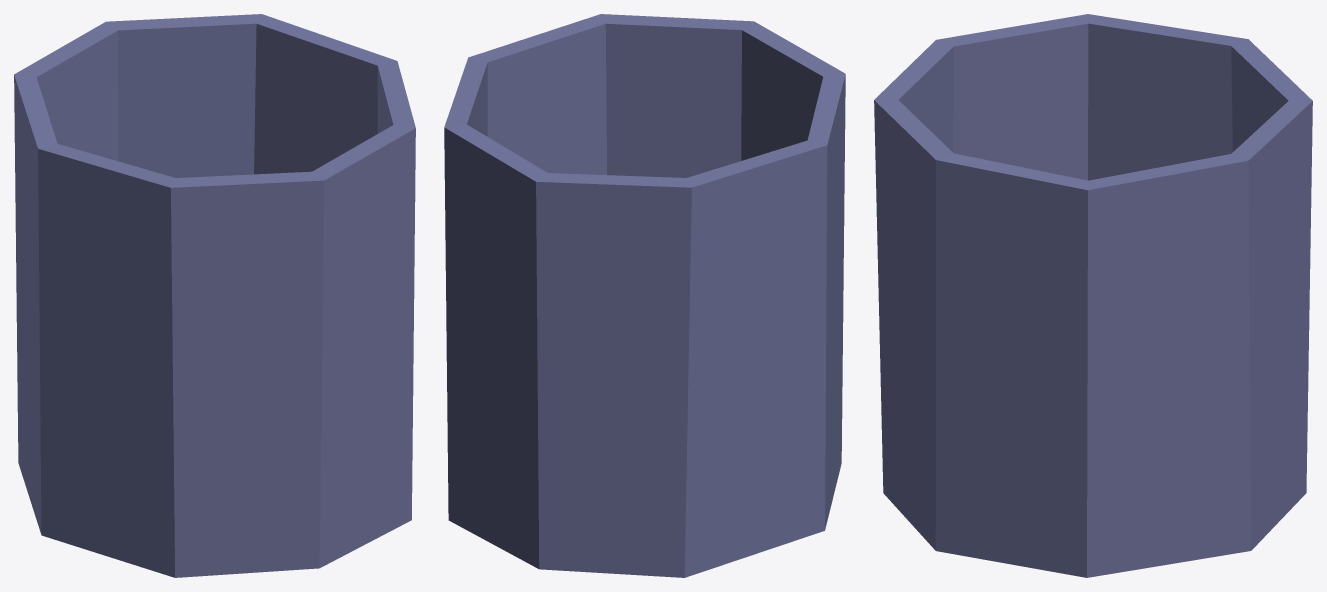
File: Livingroom2_Vase.fbx
The picture shows the model from 3 angles, left to right: view 1: azimuth 30°, elevation 25°; view 2: azimuth 150°, elevation 25°; view 3: azimuth 270°, elevation 25°; orthographic projection.
Parts seen in each view (by area): view 1: Livingroom2_Vase; view 2: Livingroom2_Vase; view 3: Livingroom2_Vase.
Part boxes in pixels (bbox=[...]): Livingroom2_Vase: bbox=[14, 14, 415, 577]; Livingroom2_Vase: bbox=[444, 14, 845, 577]; Livingroom2_Vase: bbox=[874, 14, 1312, 577].
Size of the model in its own units: 19.22 by 20.34 by 20.22.
